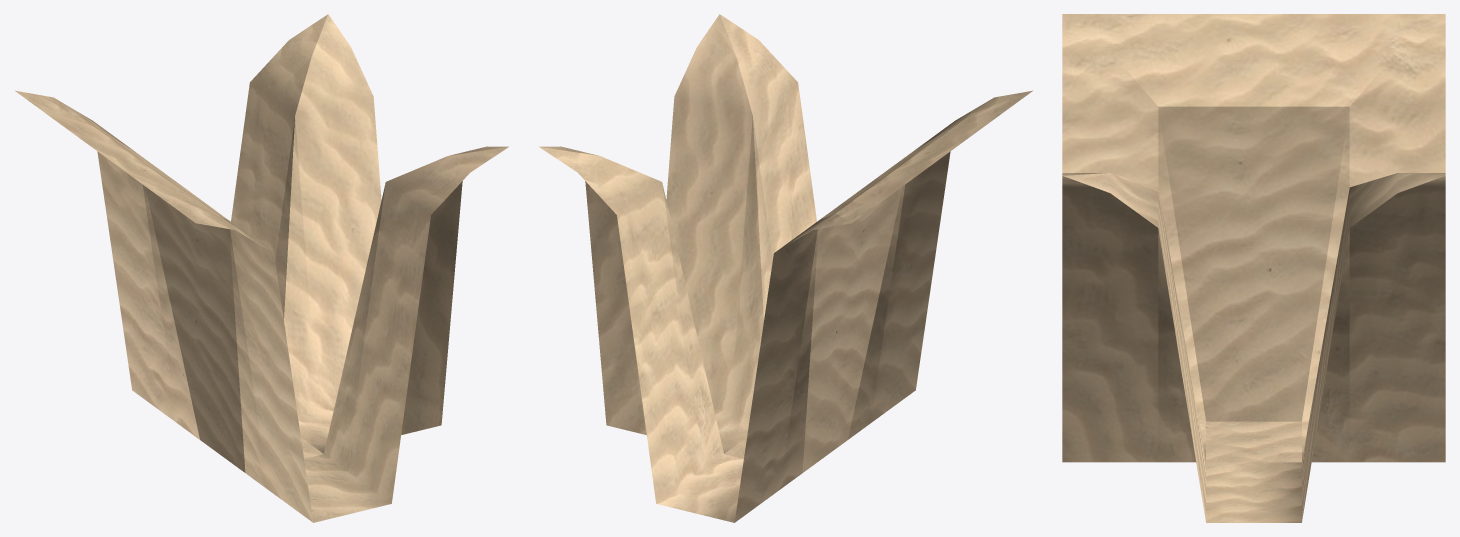
File: Sand3a.obj
3 views of the same model, side by side, from view 1: azimuth 30°, elevation 25°; view 2: azimuth 150°, elevation 25°; view 3: azimuth 270°, elevation 25° (orthographic). The views are drawn at different scales.
Visible parts, largest first — view 1: Grid_Grid.017_Grid_Grid.010; view 2: Grid_Grid.017_Grid_Grid.010; view 3: Grid_Grid.017_Grid_Grid.010.
Part boxes in pixels (x1,y1,x2,y2): Grid_Grid.017_Grid_Grid.010: (15, 14, 508, 522); Grid_Grid.017_Grid_Grid.010: (539, 14, 1032, 522); Grid_Grid.017_Grid_Grid.010: (1062, 14, 1445, 522).
Bounding box in the file's own units: 1 × 1 × 1.
1 material, 1 textured.
